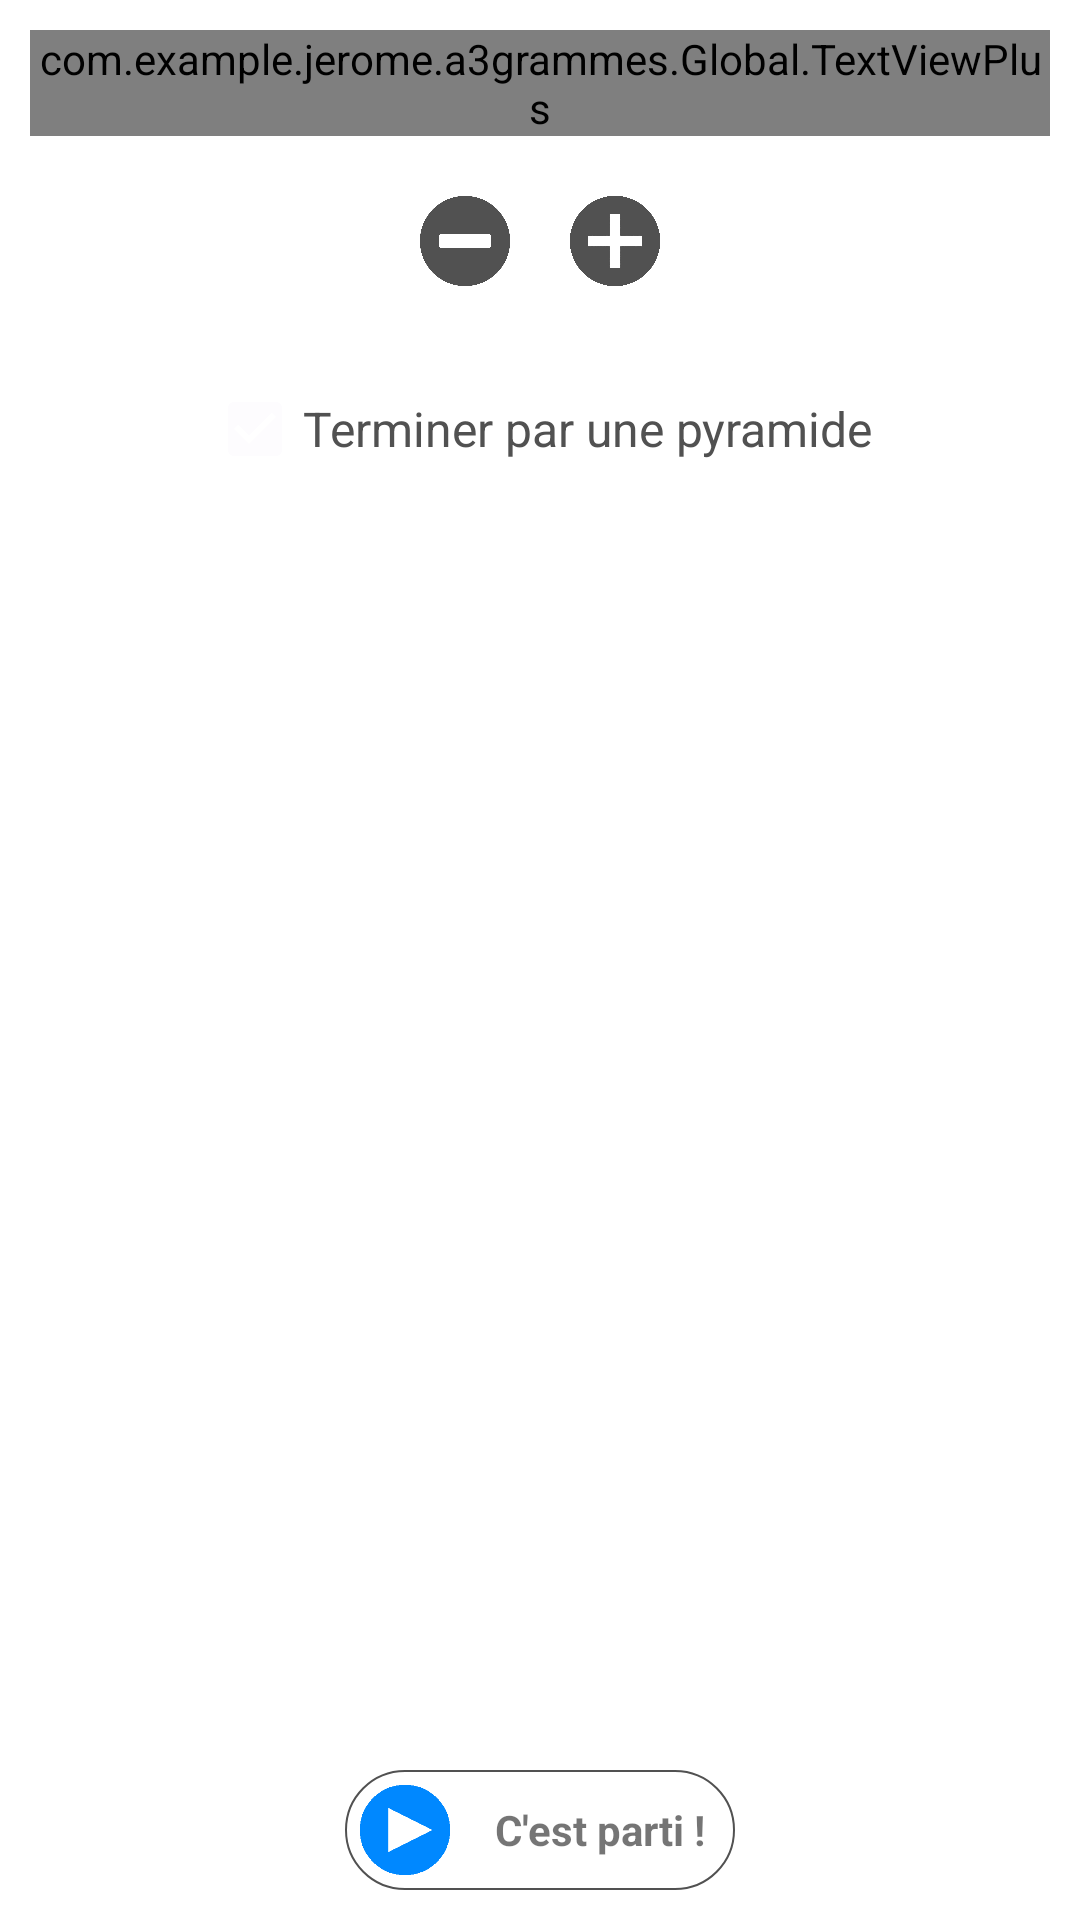

Icon bounding boxes for this 1080×1920 phone screenshot, format bbox(x1, y1, x2, y2):
minus: bbox(420, 196, 510, 286)
play: bbox(360, 1785, 450, 1875)
